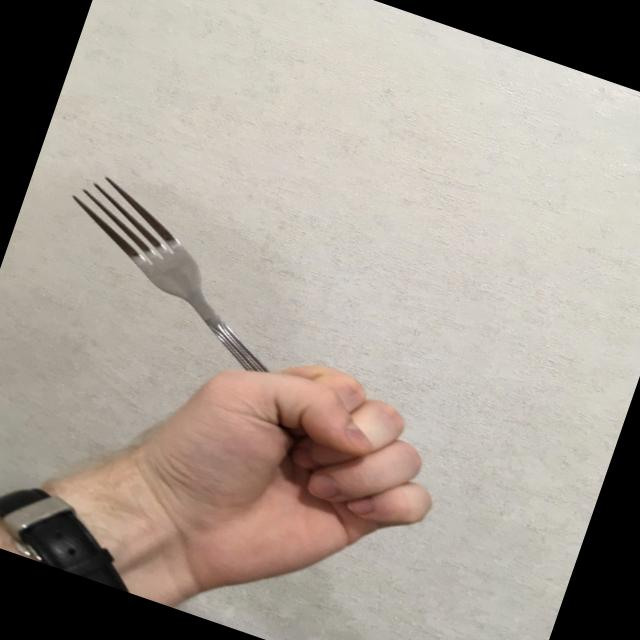fork: (26, 163, 388, 434)
